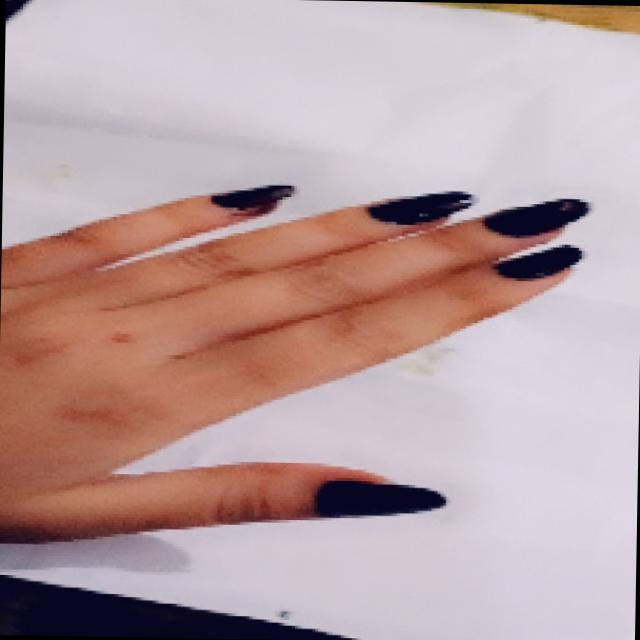Nail: (315, 480, 446, 516), (483, 198, 588, 237), (368, 191, 472, 224), (496, 244, 581, 278), (209, 185, 295, 208)
